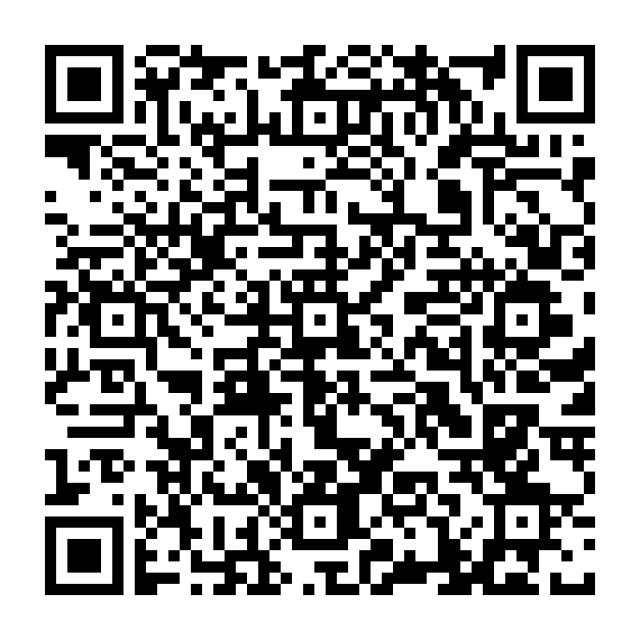QRCode: (1, 3, 636, 615)
